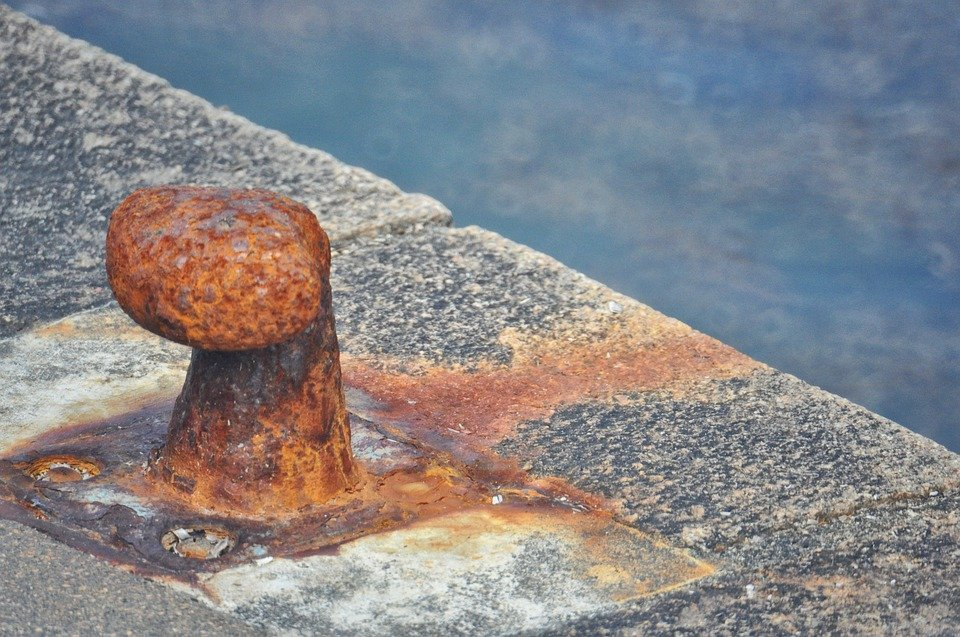rust: (119, 200, 346, 546)
